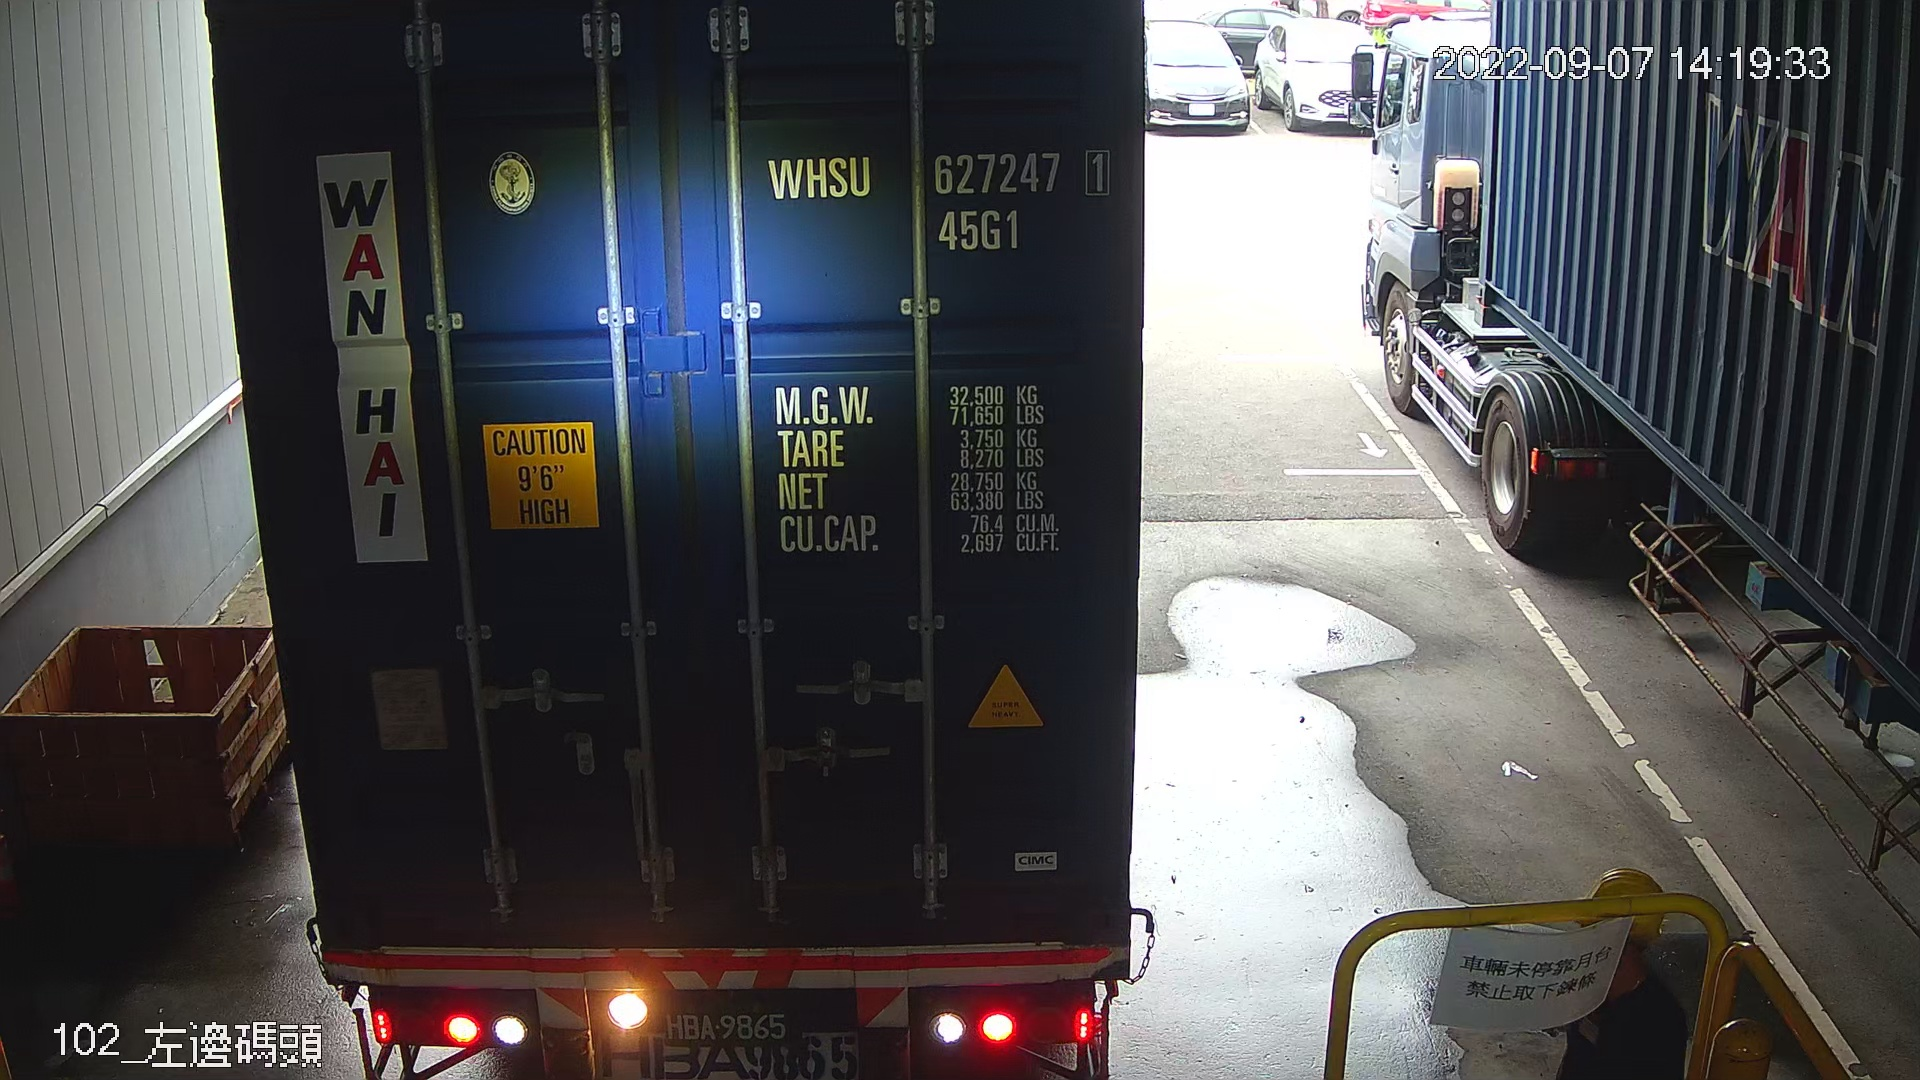container: (760, 138, 1124, 260)
